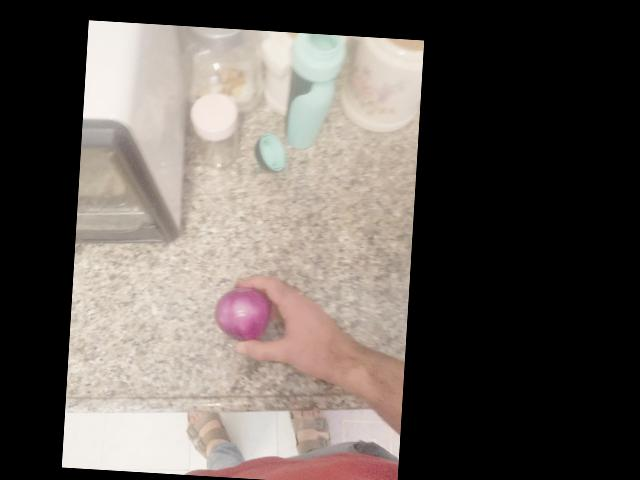onion: (100, 168, 157, 225)
